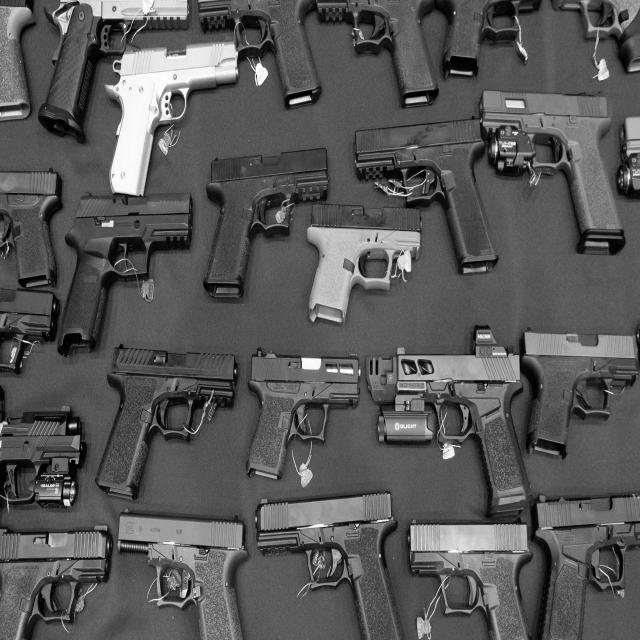Hand-Gun: (477, 78, 622, 266), (364, 344, 529, 509), (254, 484, 407, 640), (95, 353, 242, 510), (67, 188, 195, 348), (352, 127, 501, 262), (110, 45, 237, 198), (110, 496, 258, 622), (246, 341, 364, 480), (394, 515, 526, 637), (206, 150, 323, 286), (541, 493, 640, 640), (306, 202, 423, 323), (0, 524, 116, 630), (530, 324, 640, 433), (205, 0, 322, 102), (320, 0, 437, 101), (9, 397, 90, 507), (438, 14, 544, 87), (3, 162, 60, 294), (29, 0, 88, 111)
